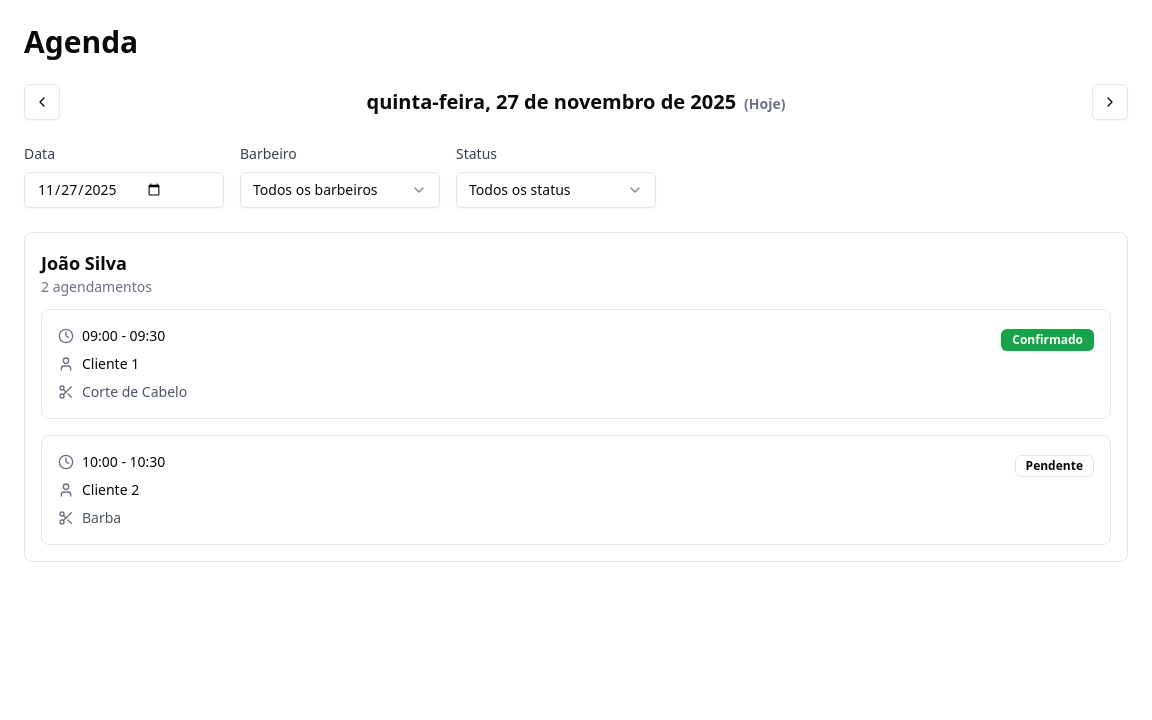
Scenario: SchedulePage › should render barber options in filter
This screenshot has width=1152, height=720.
Click the dropdown labelled "Todos os barbeiros" at (340, 190), box [240,172,440,208]
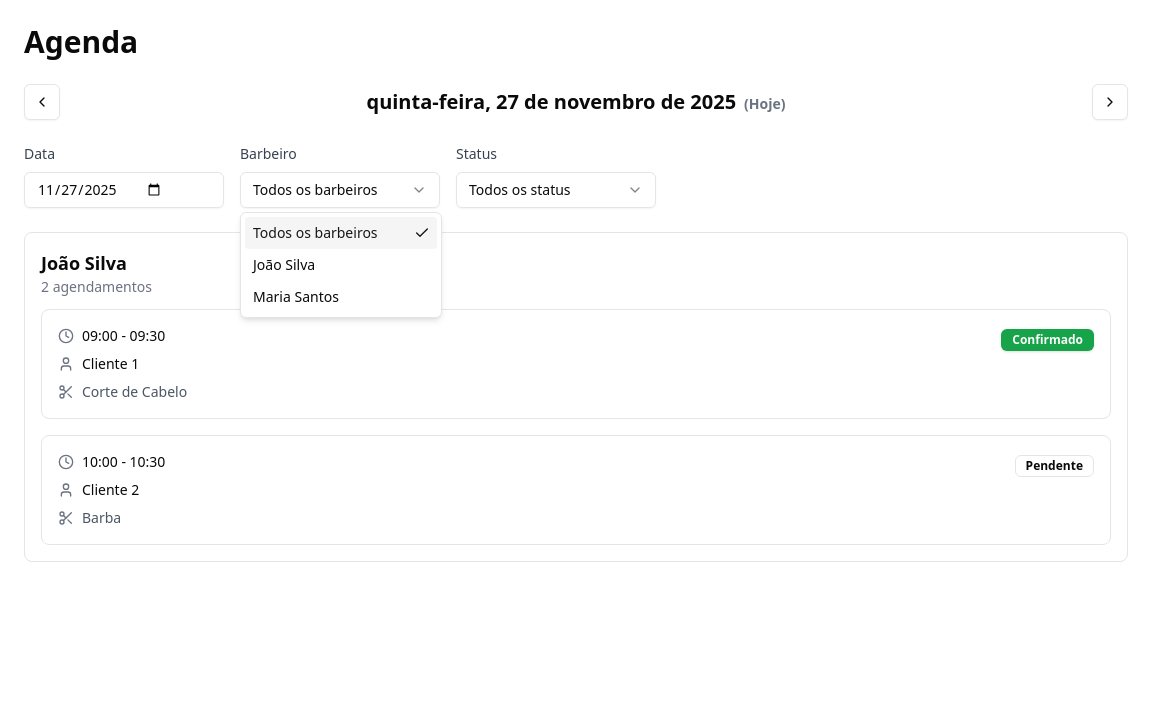
expect the text "João Silva" below "Data" is shown: met, box [41,251,127,275]
expect the text "Maria Santos" is shown: met, box [253,287,339,307]
